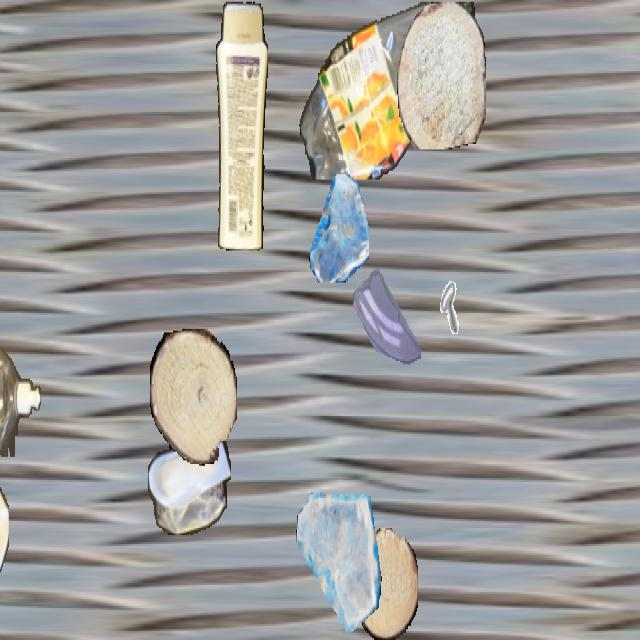glass: (295, 486, 381, 638), (353, 256, 421, 377), (308, 174, 368, 281)
metal: (415, 272, 461, 354)
plastic: (298, 2, 480, 180), (213, 2, 267, 250), (148, 427, 230, 533), (0, 324, 40, 462), (0, 356, 8, 615)
wood: (397, 2, 485, 148), (150, 329, 236, 464), (356, 528, 418, 638)
